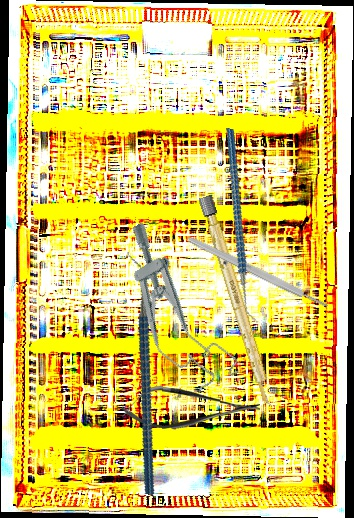Chopper: (60, 251, 220, 497), (182, 127, 304, 324)
Micro Scissor: (121, 384, 261, 433)
Scalpel Handle: (198, 194, 276, 408), (185, 234, 330, 311)
Speculum: (98, 215, 244, 402)
